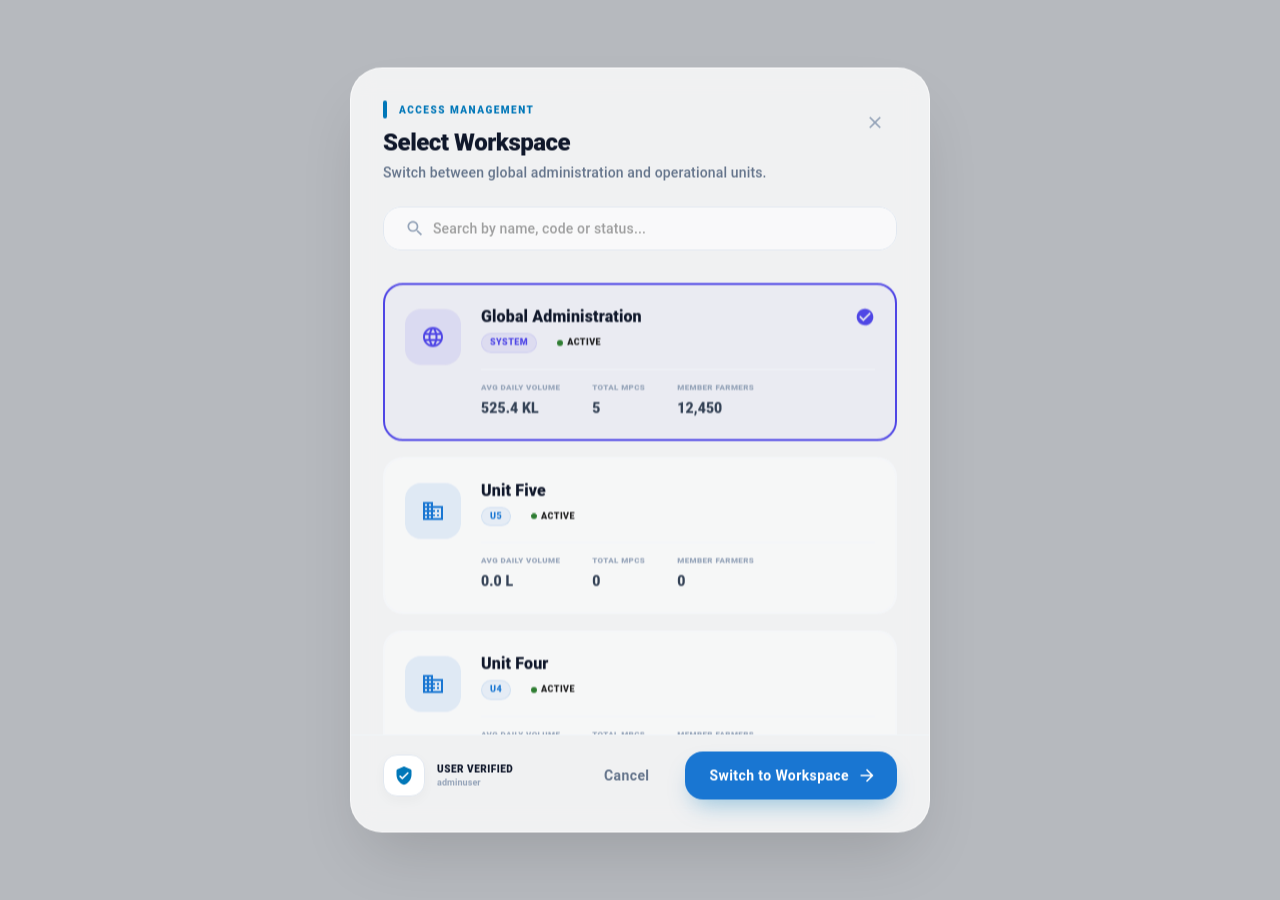
WorkspaceModal › filters units when searching
The width and height of the screenshot is (1280, 900).
Step 1. Type "Three" into the field with placeholder "Search by name, code or status..." → (665, 229), box [433, 206, 897, 251]
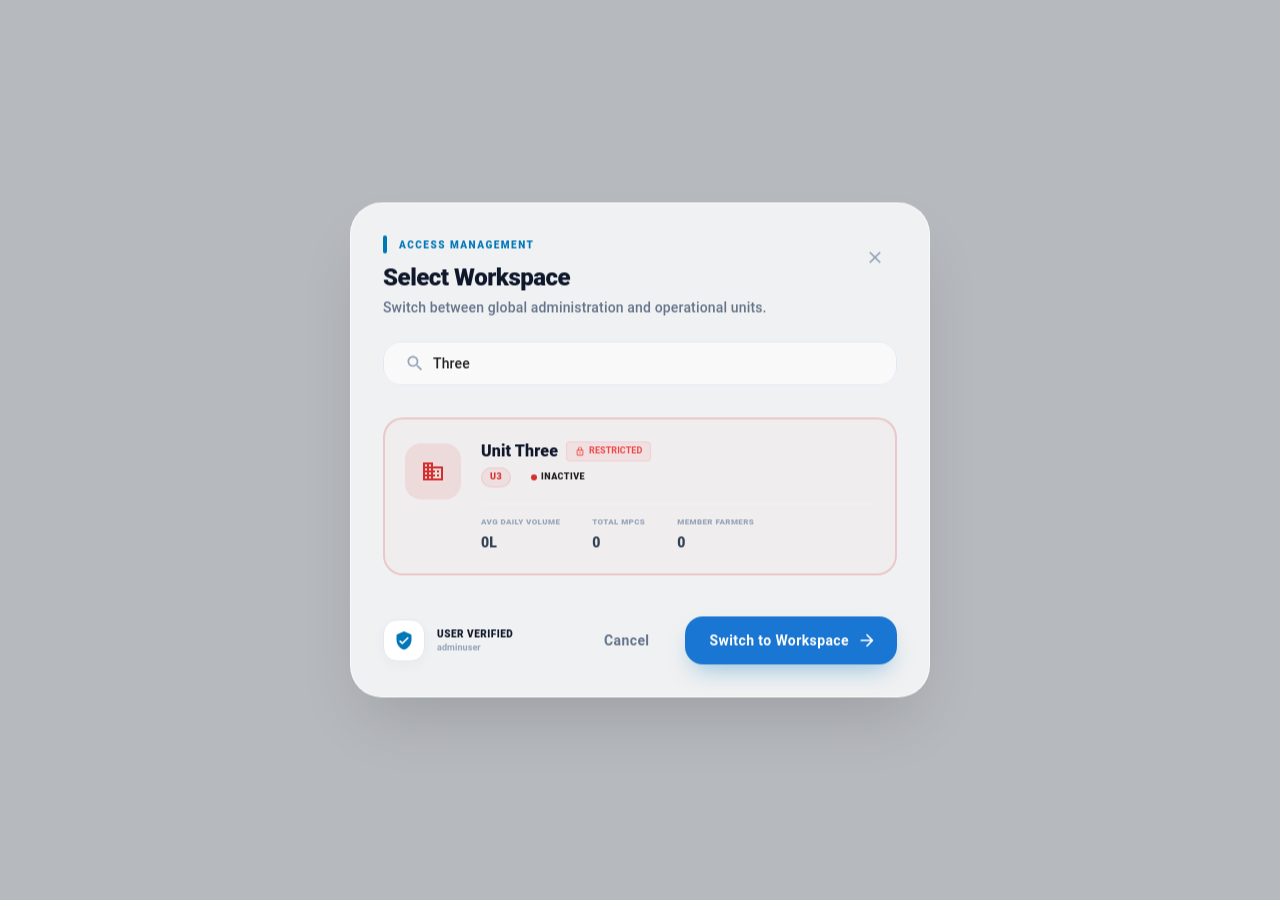
Expected: the text "Unit One" is not shown
Expected: the text "Unit Three" is shown, [481, 440, 558, 464]
